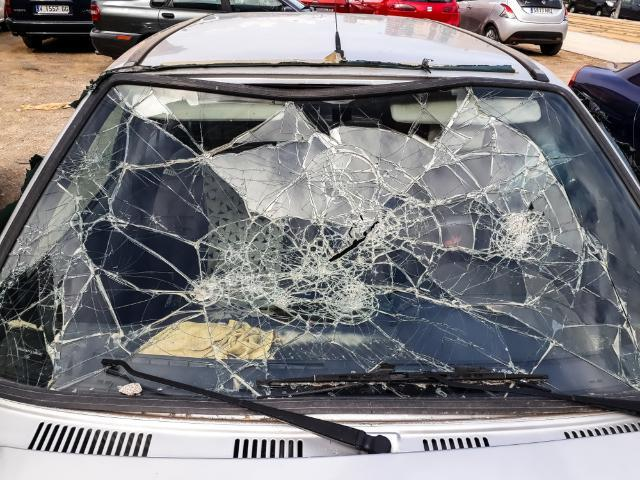glass shatter: (0, 82, 640, 399)
